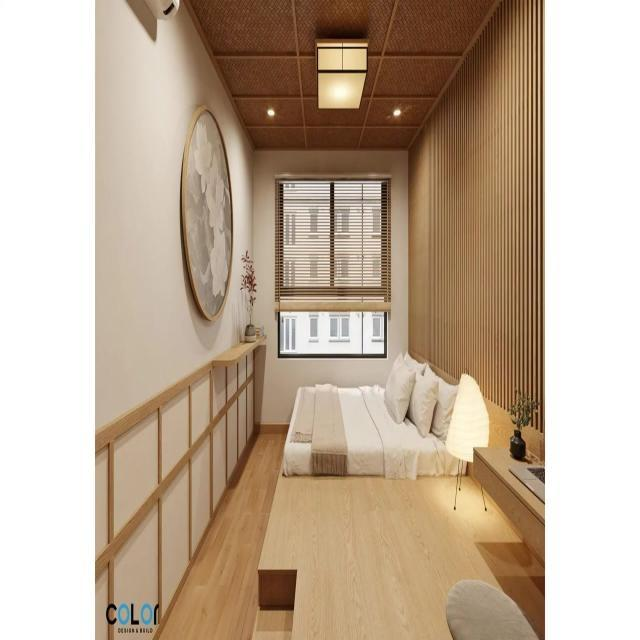obstacle: (282, 350, 465, 479), (472, 442, 544, 570)
